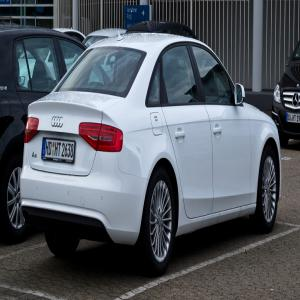Vehicle-registration-plate: (45, 141, 72, 170), (287, 113, 300, 124)
